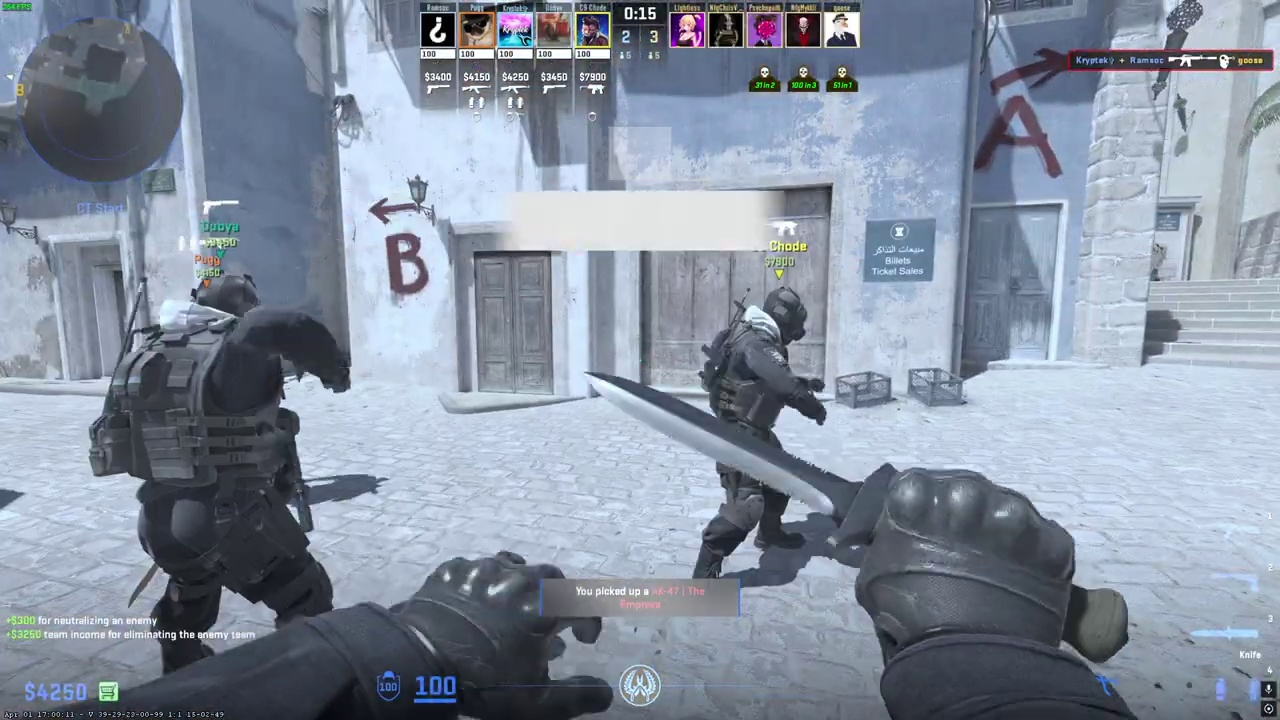CT: (106, 268, 351, 674), (693, 286, 827, 579)
